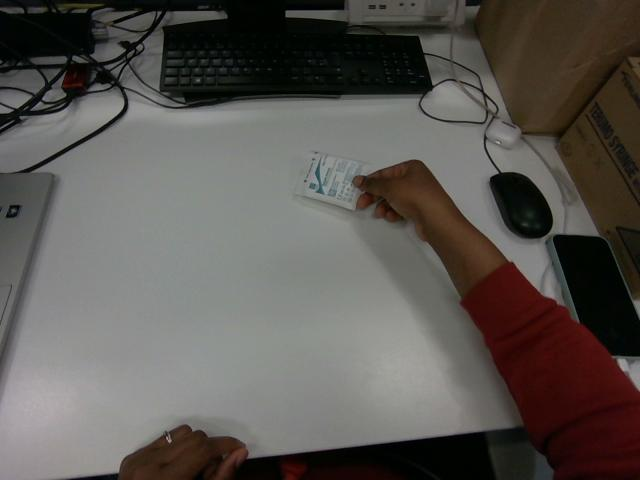gauze: (295, 152, 372, 209)
